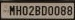character: (40, 5, 47, 16), (28, 5, 34, 16), (34, 5, 40, 16), (47, 5, 53, 16), (66, 5, 72, 16), (9, 5, 15, 15), (15, 5, 21, 15), (22, 5, 28, 15), (53, 5, 59, 15), (60, 5, 66, 15)
